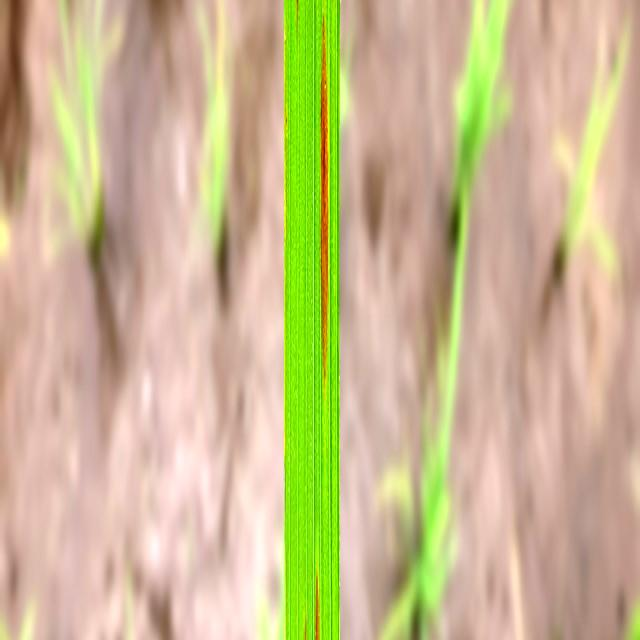NBS: (320, 19, 328, 382), (315, 568, 320, 640), (304, 622, 306, 640), (297, 0, 298, 6)
